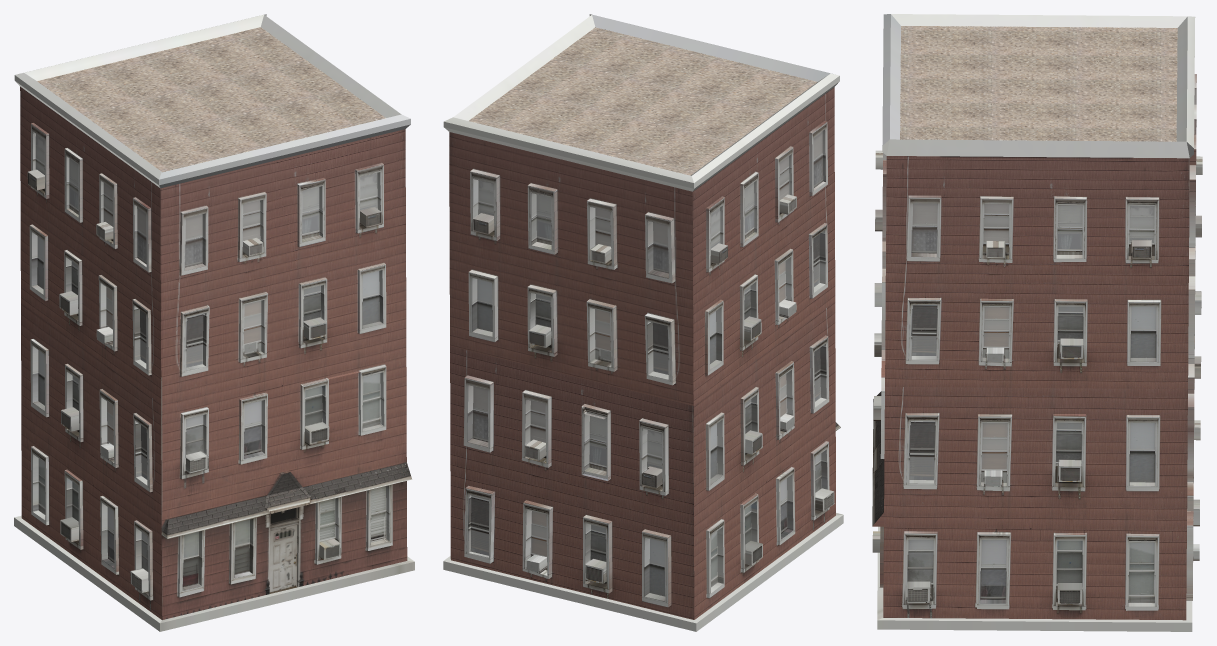
The model's file is edificio_3.glb.
3 renders of one model, left to right at view 1: azimuth 30°, elevation 25°; view 2: azimuth 150°, elevation 25°; view 3: azimuth 270°, elevation 25°, orthographic. The views are drawn at different scales.
Parts seen in each view (by area): view 1: Material_001-material, Material-material; view 2: Material_001-material, Material-material; view 3: Material_001-material, Material-material.
Part boxes in pixels (bbox=[...]): Material_001-material: bbox=[14, 14, 414, 631]; Material-material: bbox=[37, 27, 385, 172]; Material_001-material: bbox=[443, 14, 843, 631]; Material-material: bbox=[469, 27, 816, 175]; Material_001-material: bbox=[872, 14, 1202, 631]; Material-material: bbox=[900, 26, 1177, 141].
Size of the model in its own units: 6.6 by 10.9 by 6.68.
Materials: 2 (2 with a texture image).
